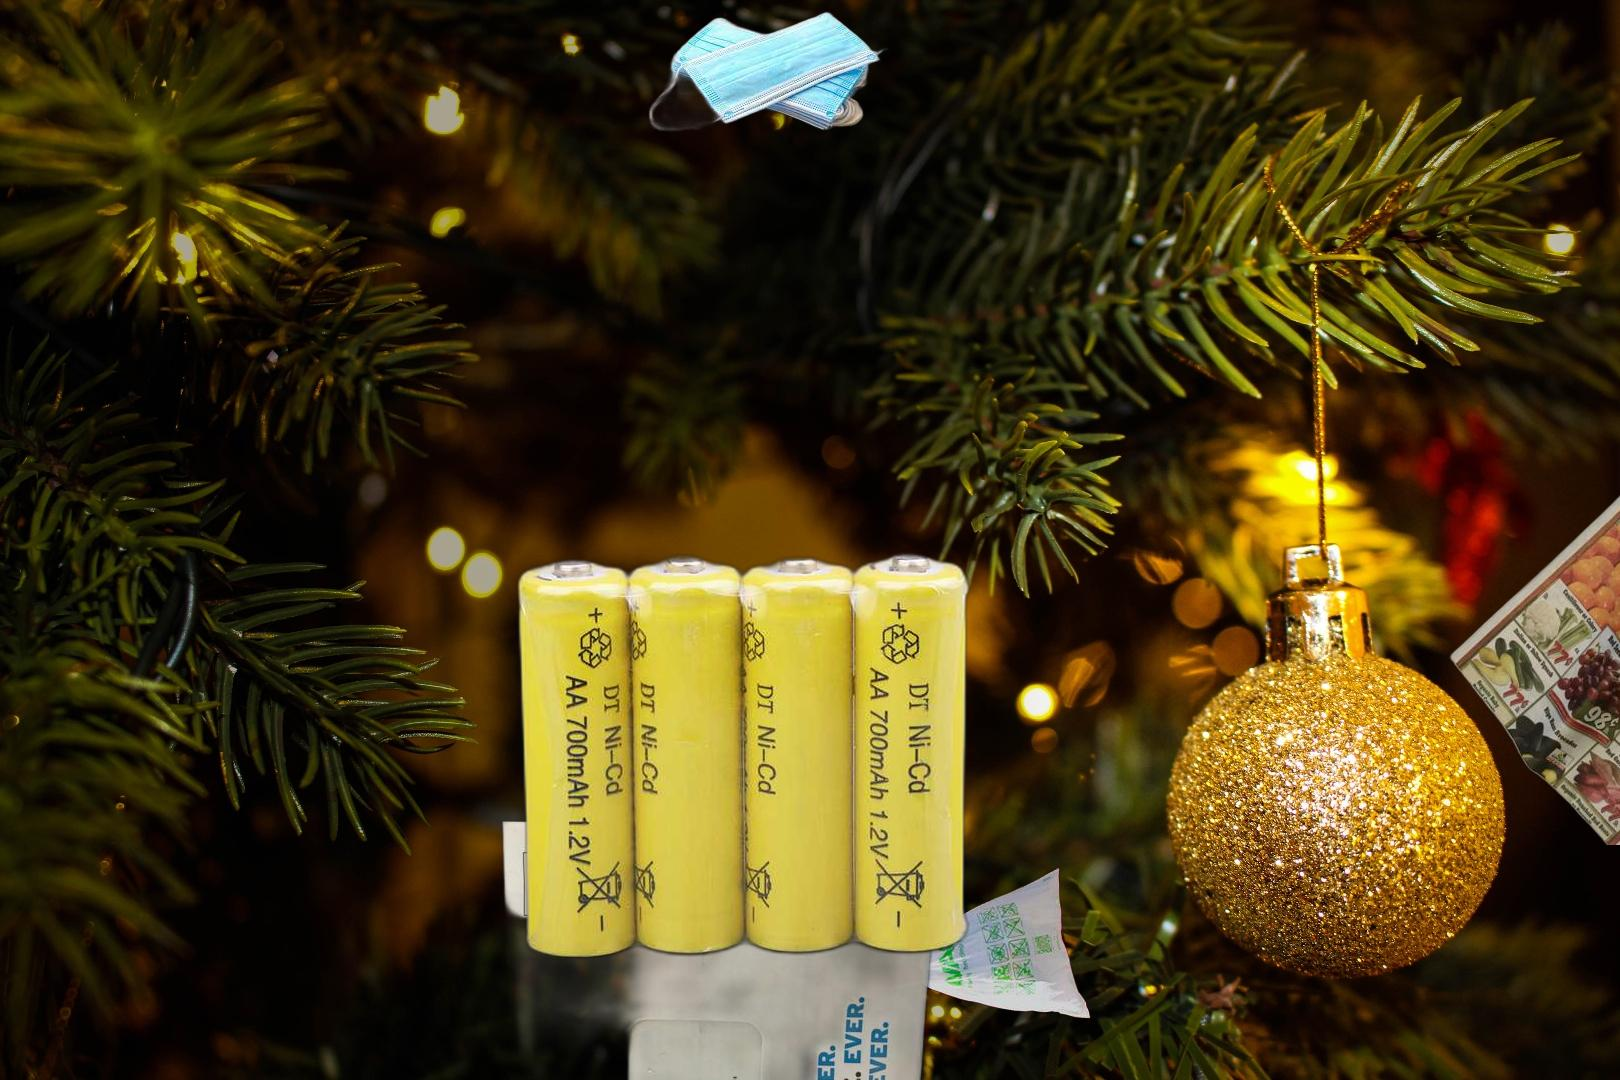battery: (510, 547, 976, 965)
paper: (445, 812, 957, 1080), (1446, 460, 1620, 845)
plastic-bag: (885, 865, 1093, 1021)
trash: (645, 8, 894, 142)
